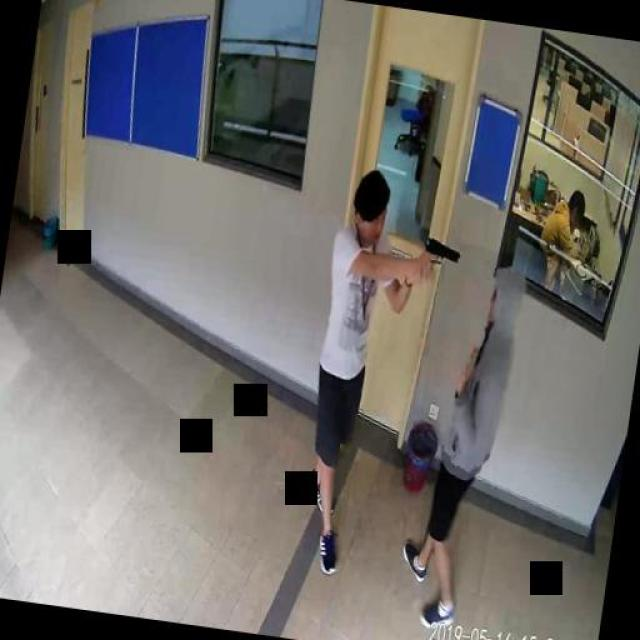gun: (420, 234, 461, 288)
